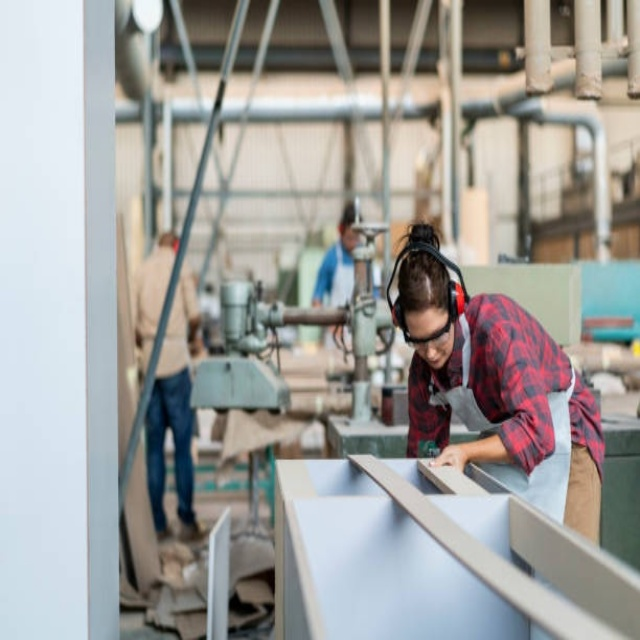Gafas: (403, 282, 454, 351)
Sin_guantes: (425, 439, 472, 474)
Sin_mascara: (425, 354, 449, 377)
